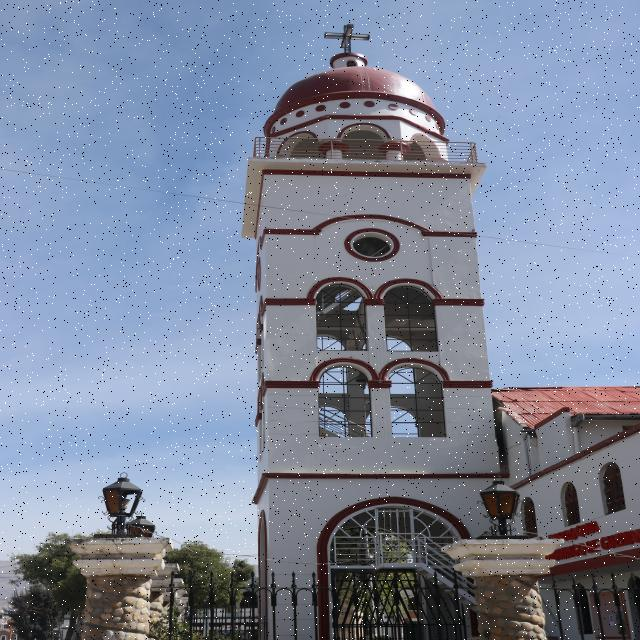CAMPANARIO: (210, 168, 514, 490)
CUPULA: (228, 29, 489, 180)
TORRES: (196, 16, 560, 640)
colonial-architecture-: (17, 0, 640, 640)
